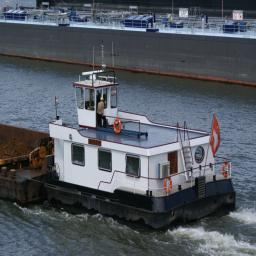tugboat: (39, 40, 239, 238)
